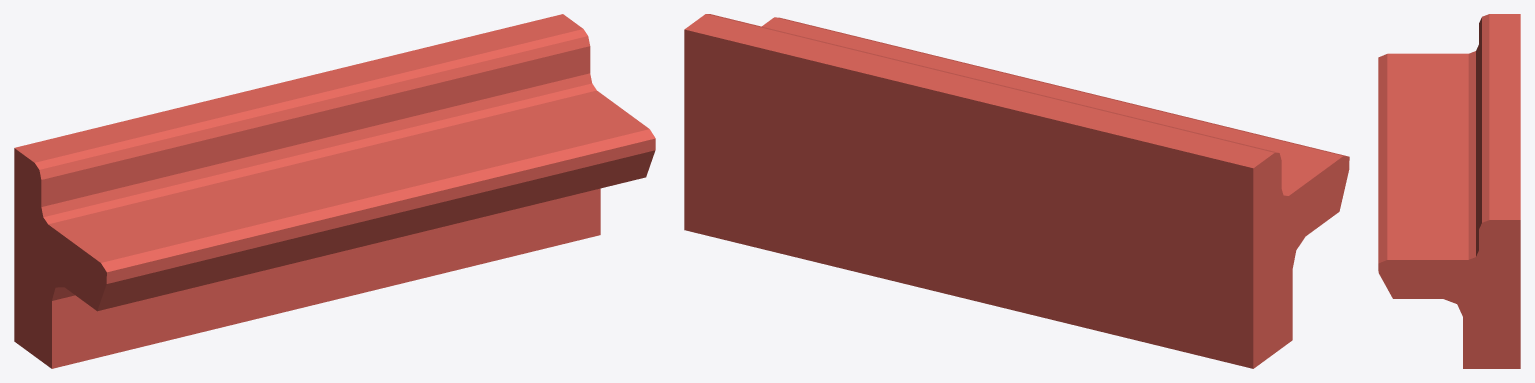
The picture shows the model from 3 angles, left to right: view 1: azimuth 30°, elevation 25°; view 2: azimuth 150°, elevation 25°; view 3: azimuth 270°, elevation 25°; orthographic projection. The views are drawn at different scales.
Parts seen in each view (by area): view 1: Cube.018; view 2: Cube.018; view 3: Cube.018.
Boxes of the visible parts, bbox=[...] form: Cube.018: bbox=[14, 14, 655, 368]; Cube.018: bbox=[684, 14, 1349, 368]; Cube.018: bbox=[1378, 14, 1520, 368].
Size of the model in its own units: 284 by 95.75 by 83.13.
